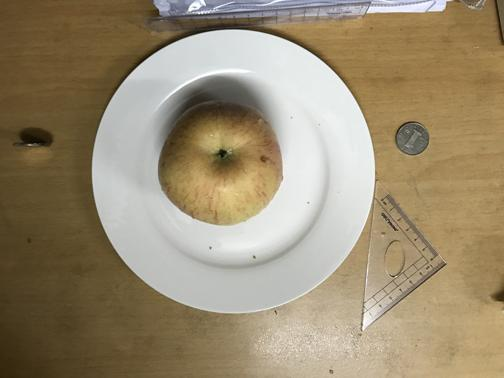apple: (156, 96, 284, 227)
coin: (393, 119, 430, 157)
